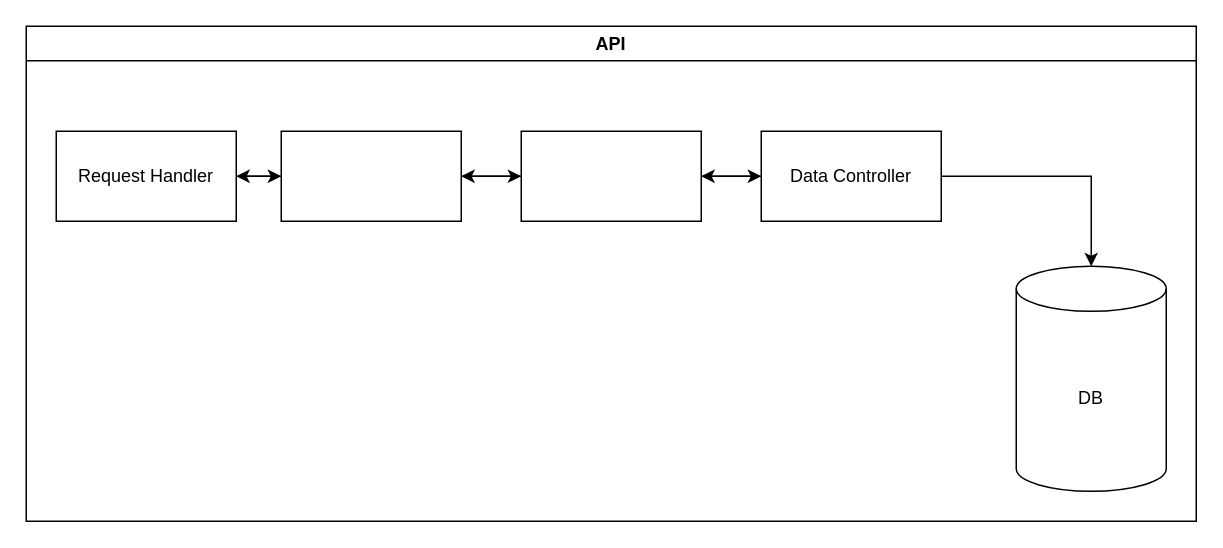
The diagram is 1223 pixels wide and 548 high, and some of its shapes have lost their labels. The box of each missing label's shape, as (x1, y1, x2, y2) in pixels:
Auth Handler: (520, 130, 701, 221)
Error Handler: (280, 130, 461, 221)
